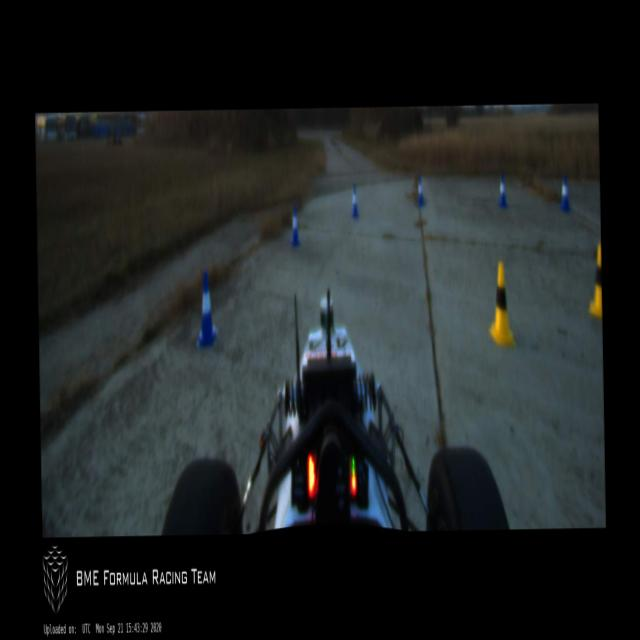blue_cone: (195, 271, 217, 348), (558, 171, 570, 211), (498, 172, 508, 210), (290, 205, 299, 247), (416, 172, 424, 206), (351, 185, 358, 218)
yellow_cone: (486, 262, 513, 344), (586, 242, 602, 320)
